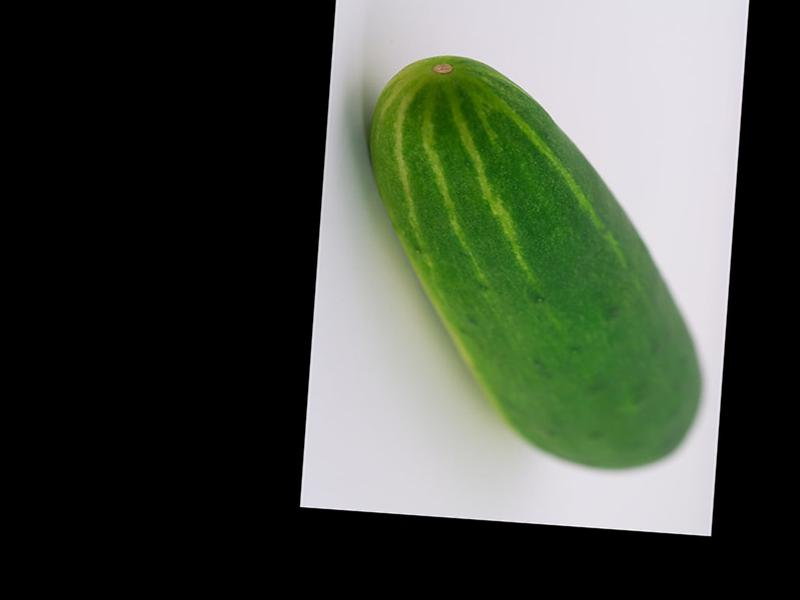Cucumber: (347, 51, 724, 476)
